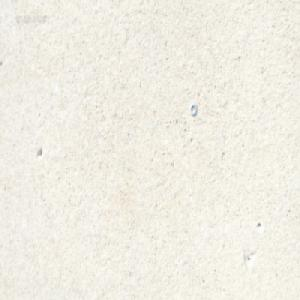Washer: (189, 102, 197, 117)
